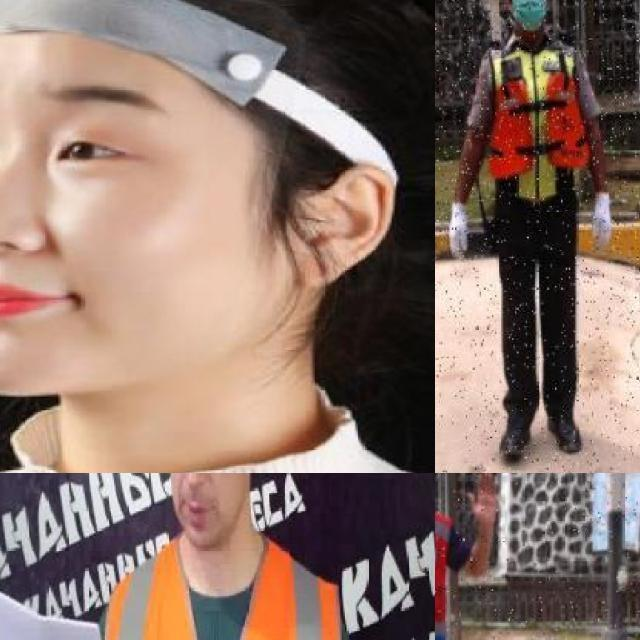apron: (585, 192, 619, 257), (448, 187, 473, 269)
